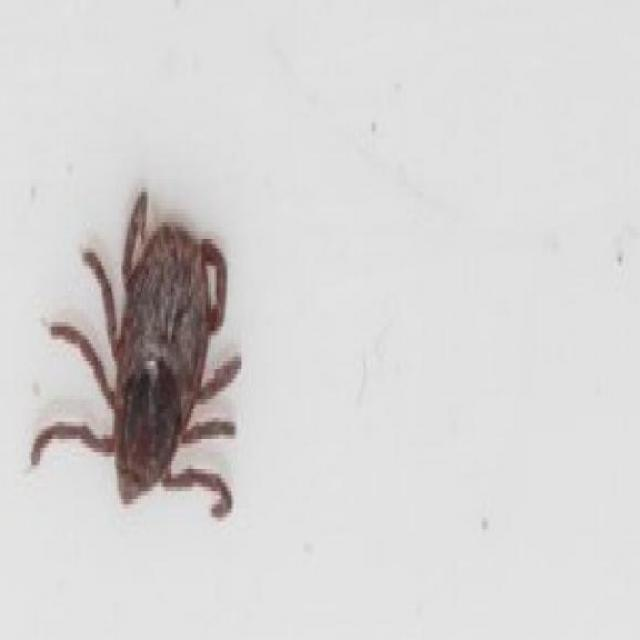Rhipicephalus Sanguineus-F: (27, 188, 242, 517)
